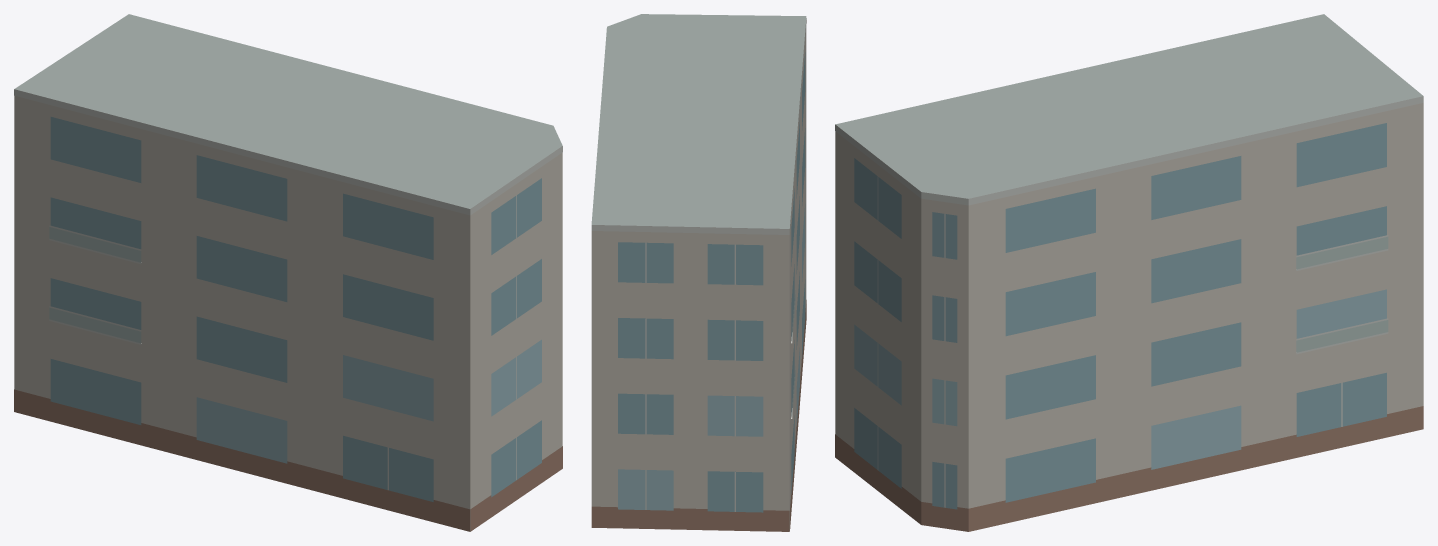
The model's file is survey-upis-32658726.glb.
3 views of the same model, side by side, from view 1: azimuth 30°, elevation 25°; view 2: azimuth 150°, elevation 25°; view 3: azimuth 270°, elevation 25° (orthographic). The views are drawn at different scales.
Visible parts, largest first — view 1: survey-upis-32658726.tmp; view 2: survey-upis-32658726.tmp; view 3: survey-upis-32658726.tmp.
Boxes of the visible parts, box(x1,y1,x2,y2) form: survey-upis-32658726.tmp: box(14, 14, 562, 531); survey-upis-32658726.tmp: box(591, 14, 806, 531); survey-upis-32658726.tmp: box(835, 14, 1423, 531).
Bounding box in the file's own units: 14.53 × 12.2 × 19.55.
